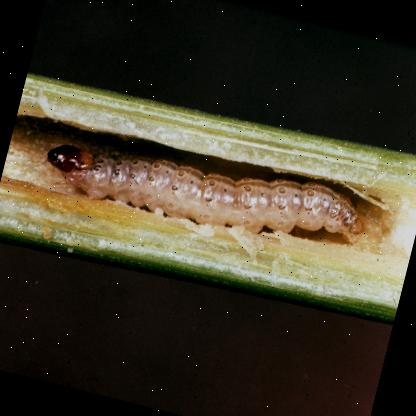Asian Corn Borer Larvae: (36, 114, 378, 270)
